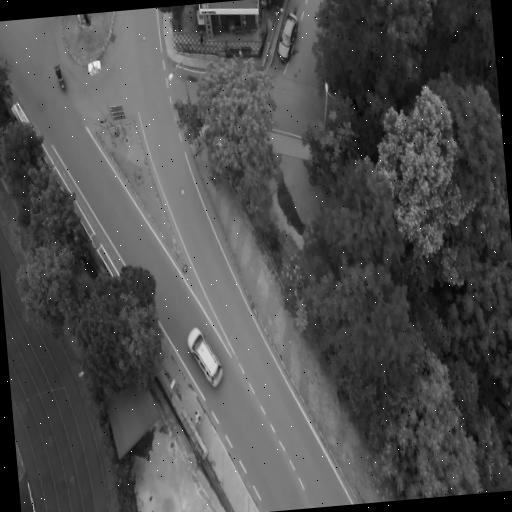car: (187, 328, 222, 387), (277, 13, 297, 62)
person: (55, 66, 61, 80), (194, 411, 200, 424), (199, 30, 202, 44)
